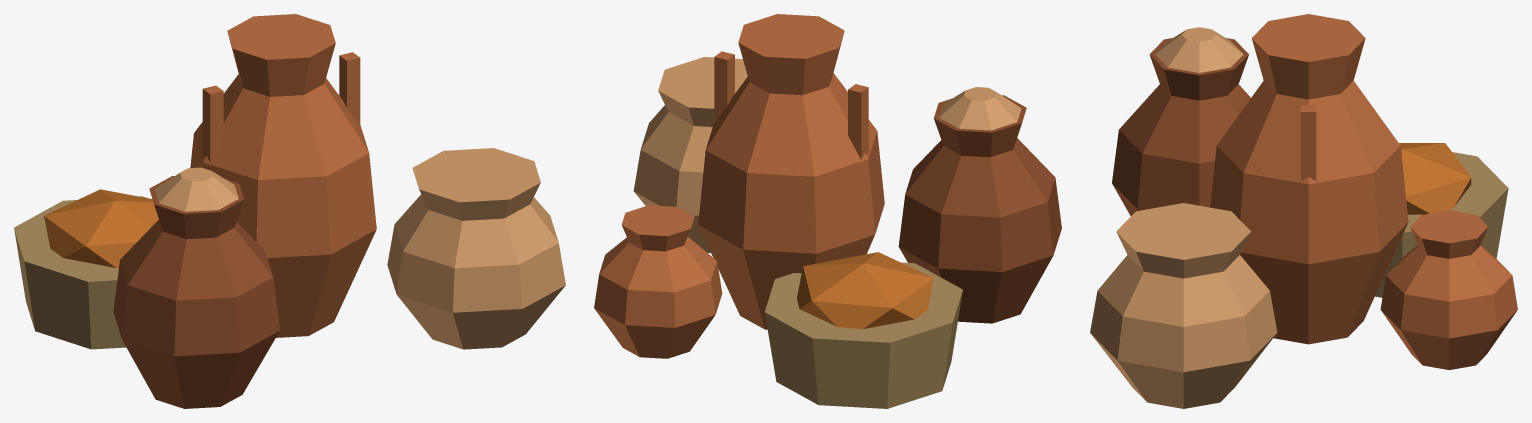
File: desert_pots.glb
The picture shows the model from 3 angles, left to right: view 1: azimuth 30°, elevation 25°; view 2: azimuth 150°, elevation 25°; view 3: azimuth 270°, elevation 25°; orthographic projection. The views are drawn at different scales.
Visible parts, largest first — view 1: desert_pots; view 2: desert_pots; view 3: desert_pots.
Boxes of the visible parts, x1,y1,x2,y2 form: desert_pots: (14, 14, 565, 408); desert_pots: (594, 14, 1061, 408); desert_pots: (1090, 14, 1517, 408).
Size of the model in its own units: 1.6 by 1 by 1.37.
